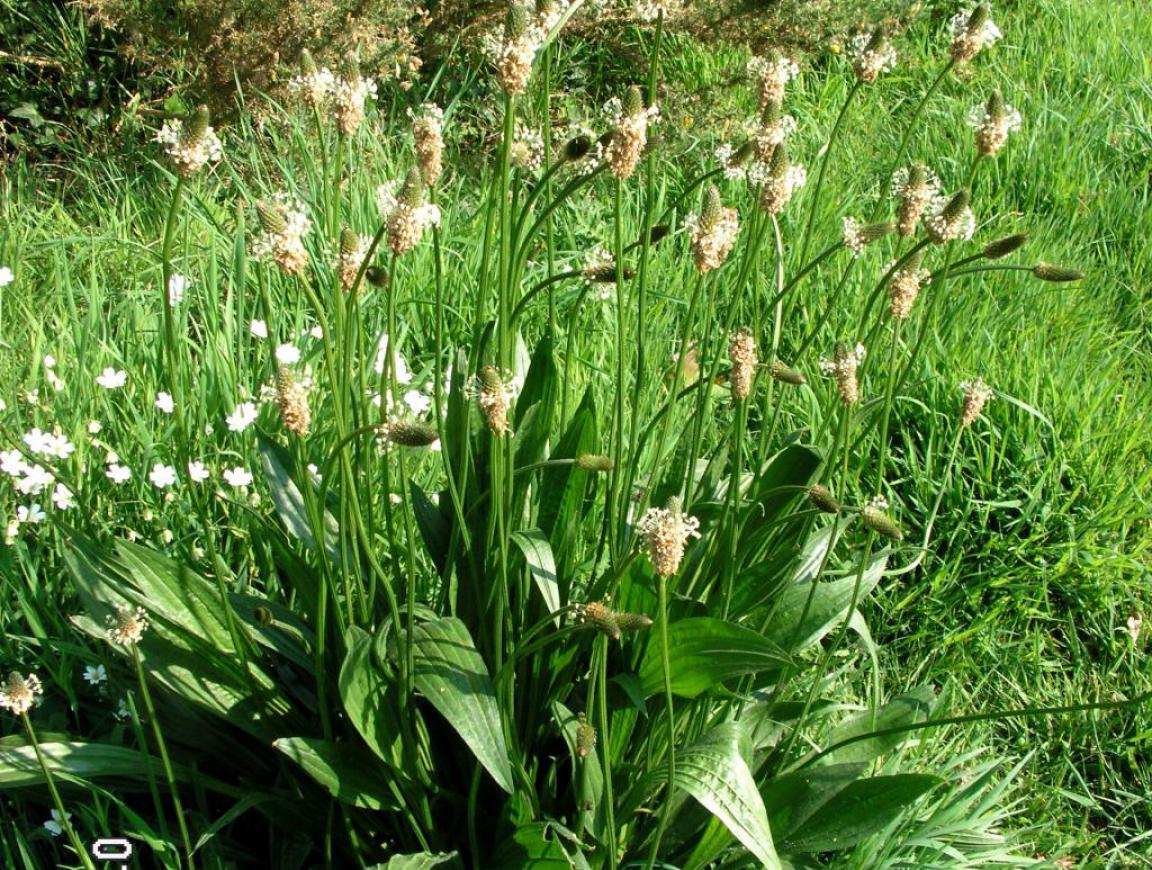buckhorn plantain: (116, 9, 1072, 835)
